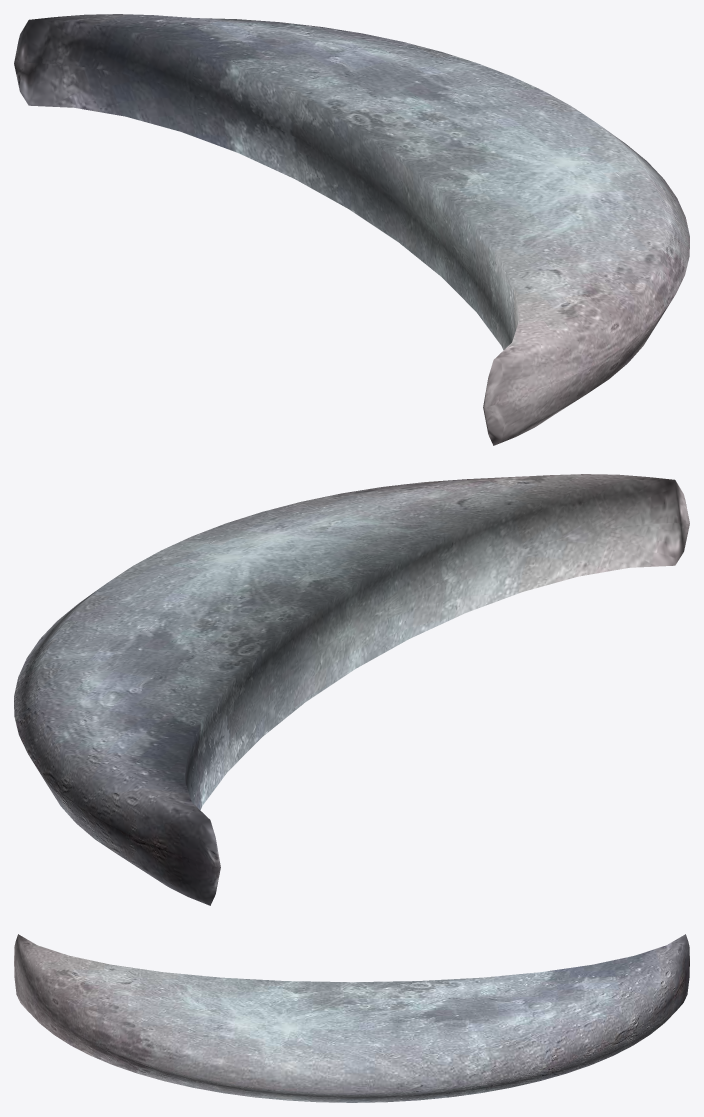
File: CrescentMoon.fbx
The picture shows the model from 3 angles, top to bottom: view 1: azimuth 30°, elevation 25°; view 2: azimuth 150°, elevation 25°; view 3: azimuth 270°, elevation 25°; orthographic projection. The views are drawn at different scales.
Visible parts, largest first — view 1: Moon; view 2: Moon; view 3: Moon.
Boxes of the visible parts, x1,y1,x2,y2 form: Moon: [14, 14, 689, 445]; Moon: [14, 474, 689, 905]; Moon: [14, 934, 689, 1102].
Bounding box in the file's own units: 91.94 × 20 × 199.
Materials: 1 (1 with a texture image).
